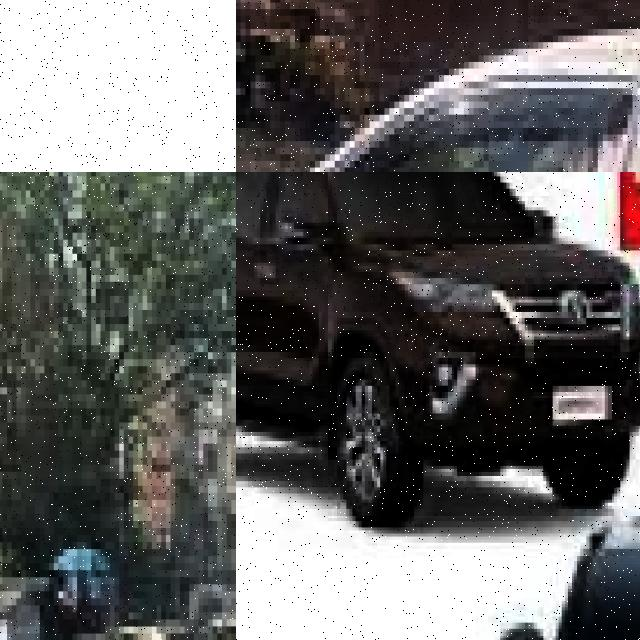bike: (32, 99, 236, 172)
car: (236, 172, 624, 532), (236, 9, 640, 172), (494, 499, 640, 640)
